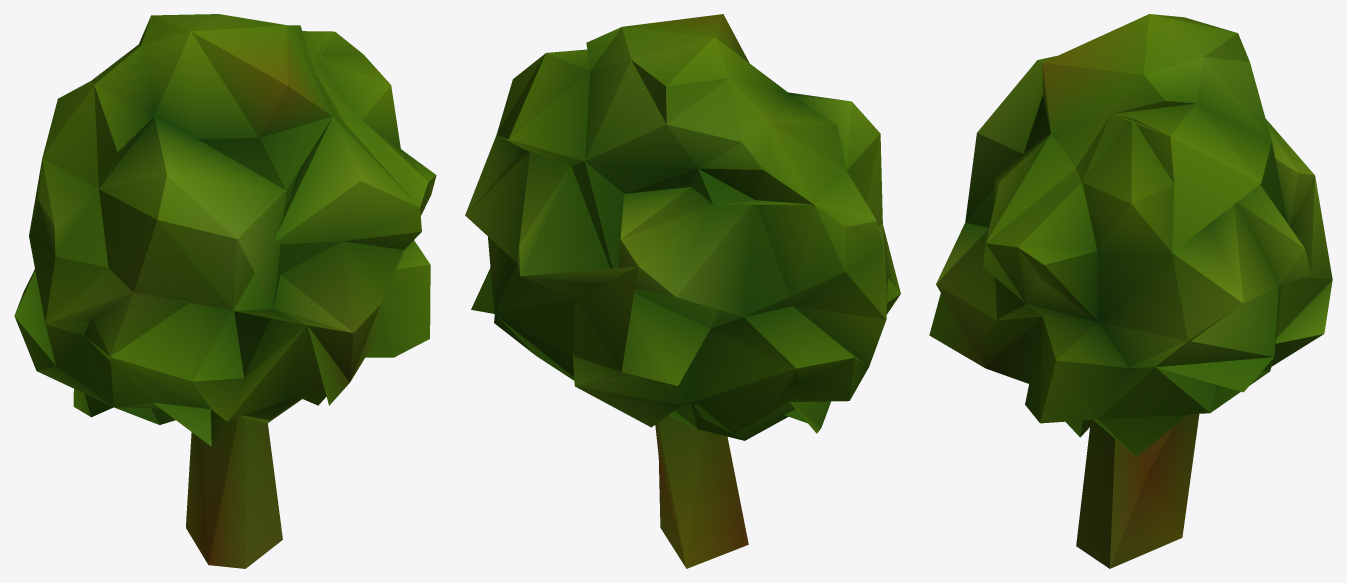
File: tree-round.glb
3 views of the same model, side by side, from view 1: azimuth 30°, elevation 25°; view 2: azimuth 150°, elevation 25°; view 3: azimuth 270°, elevation 25° (orthographic). The views are drawn at different scales.
Parts seen in each view (by area): view 1: tree-round-far; view 2: tree-round-far; view 3: tree-round-far.
Part boxes in pixels (x1,y1,x2,y2): tree-round-far: (14, 14, 436, 568); tree-round-far: (465, 14, 900, 568); tree-round-far: (929, 14, 1332, 568).
Size of the model in its own units: 5.72 by 7.79 by 5.44.
